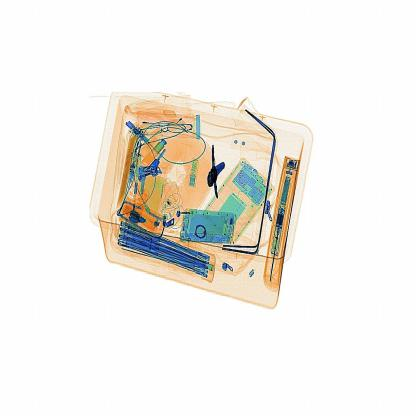wrench: (202, 136, 231, 202)
